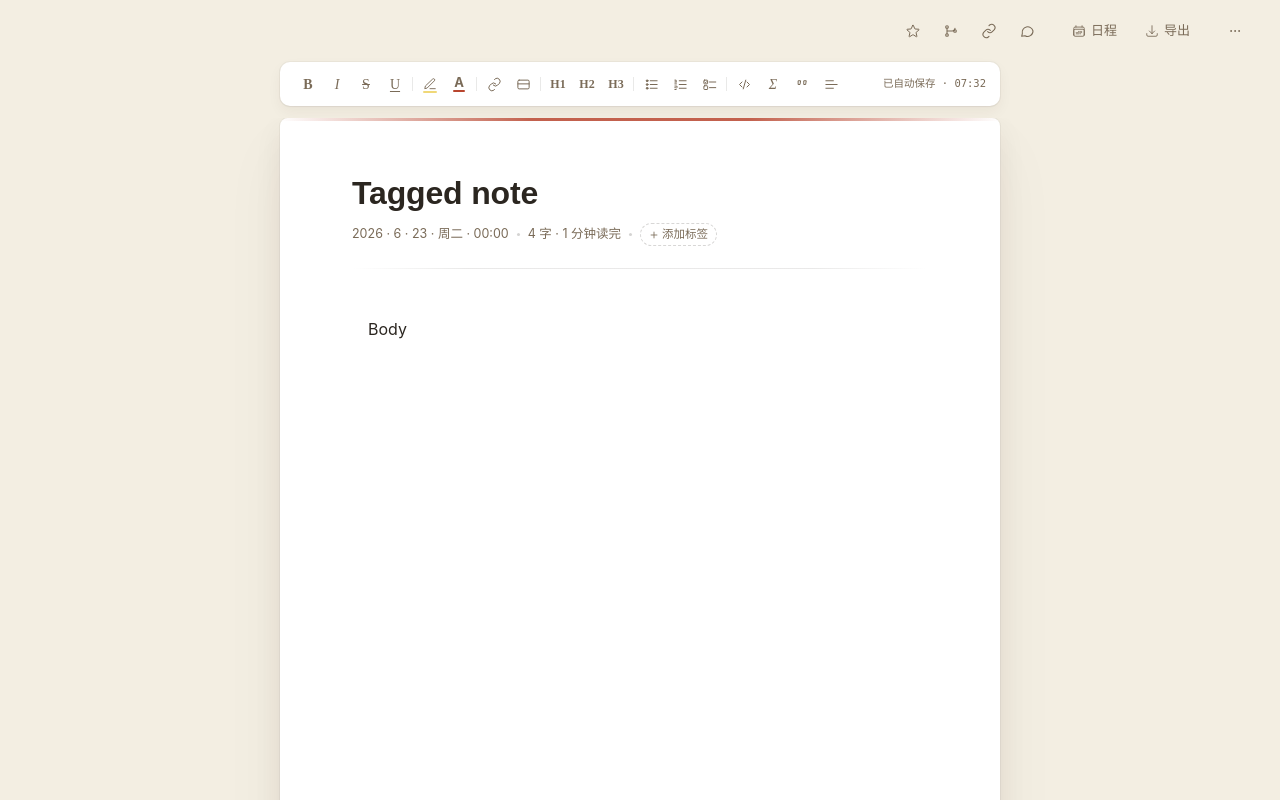
EditorPane tag editing behavior › reveals the tag input when Add tag is clicked
The width and height of the screenshot is (1280, 800).
Expected: the element showing "2026 · 6 · 23 · 周二 · 00:00 4 字 · 1 分钟读完 添加标签" is shown, [352,173,928,269]
Click the button "添加标签": x=679, y=235 [640,223,717,246]
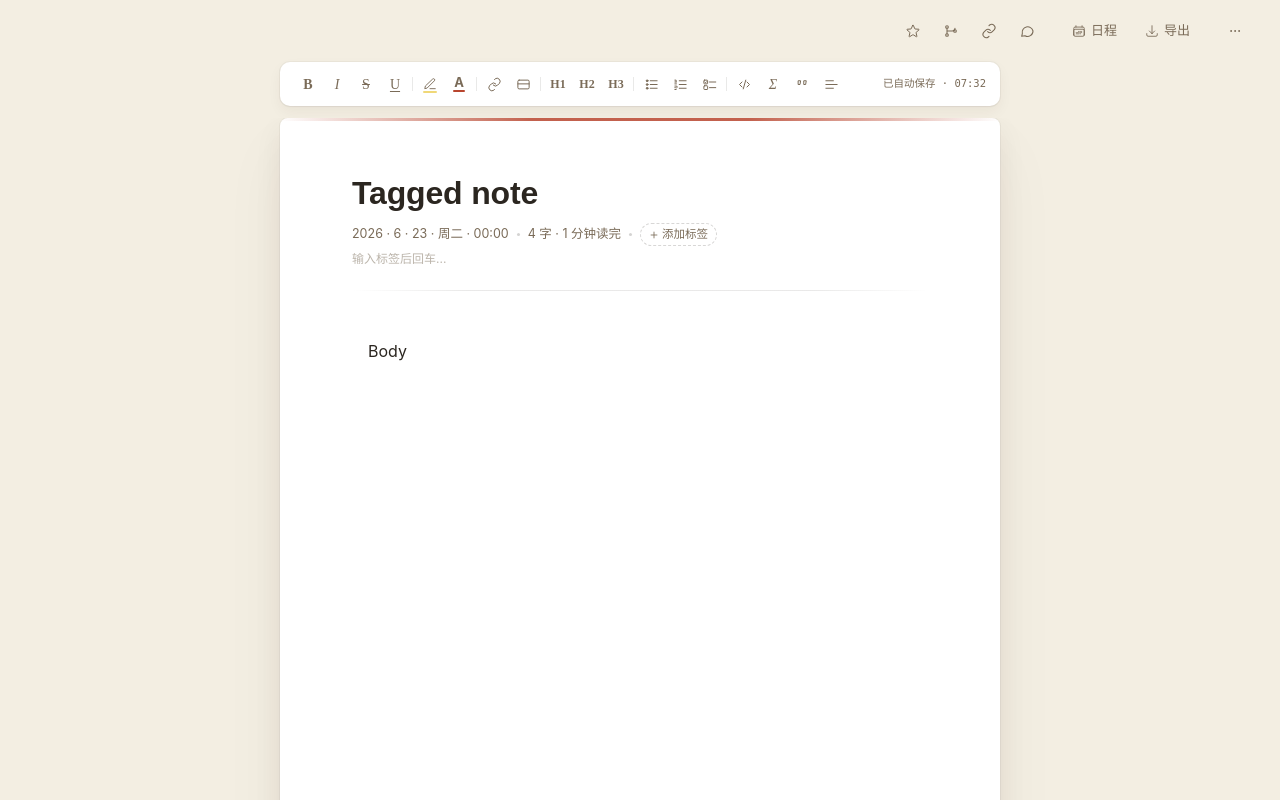
Expected: the field with placeholder "输入标签后回车..." is shown, [352,250,492,268]
